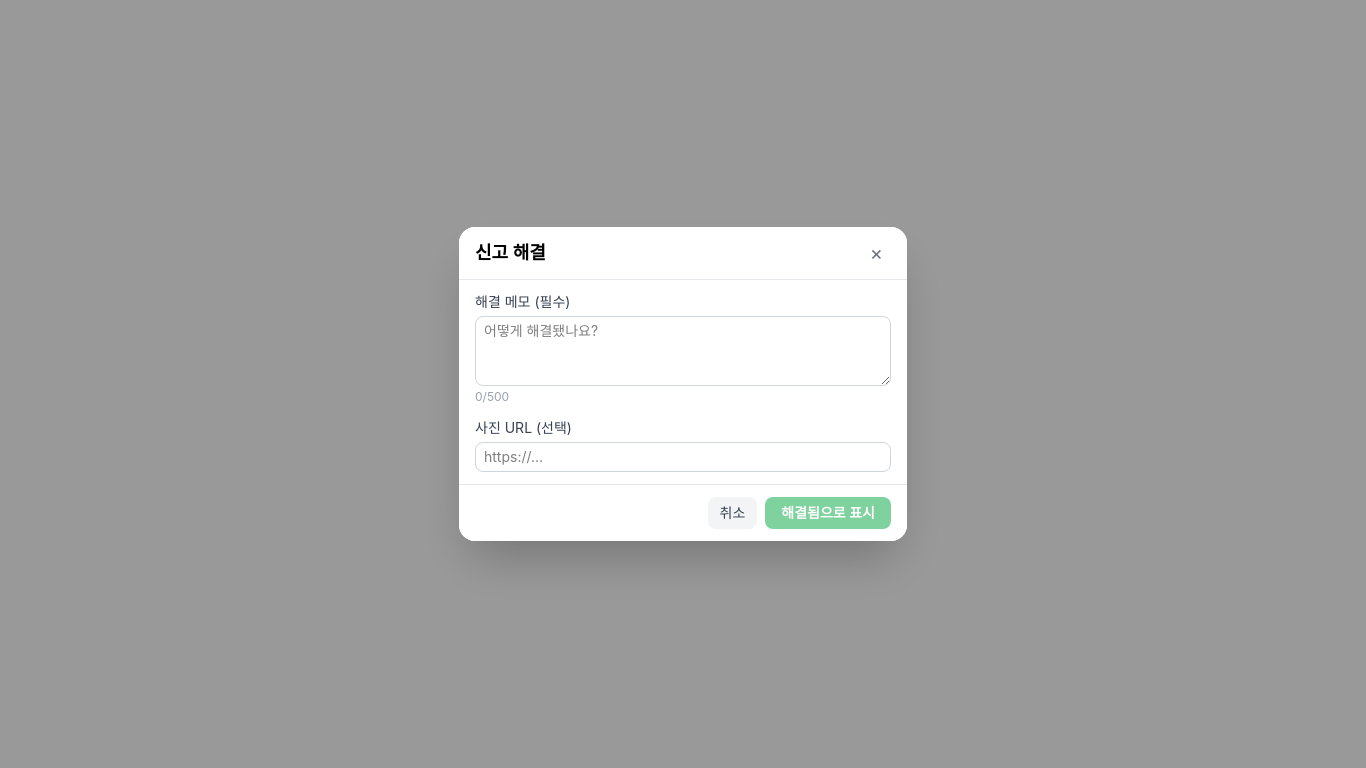
it: ReportResolveModal › submit disabled until note typed
Check: the button with test id "resolve-submit-button" is disabled, box top-left (765, 497), bottom-right (891, 529)
In the text box with test id "resolve-note": (683, 351) top-left (475, 316), bottom-right (891, 386), type "치웠음"
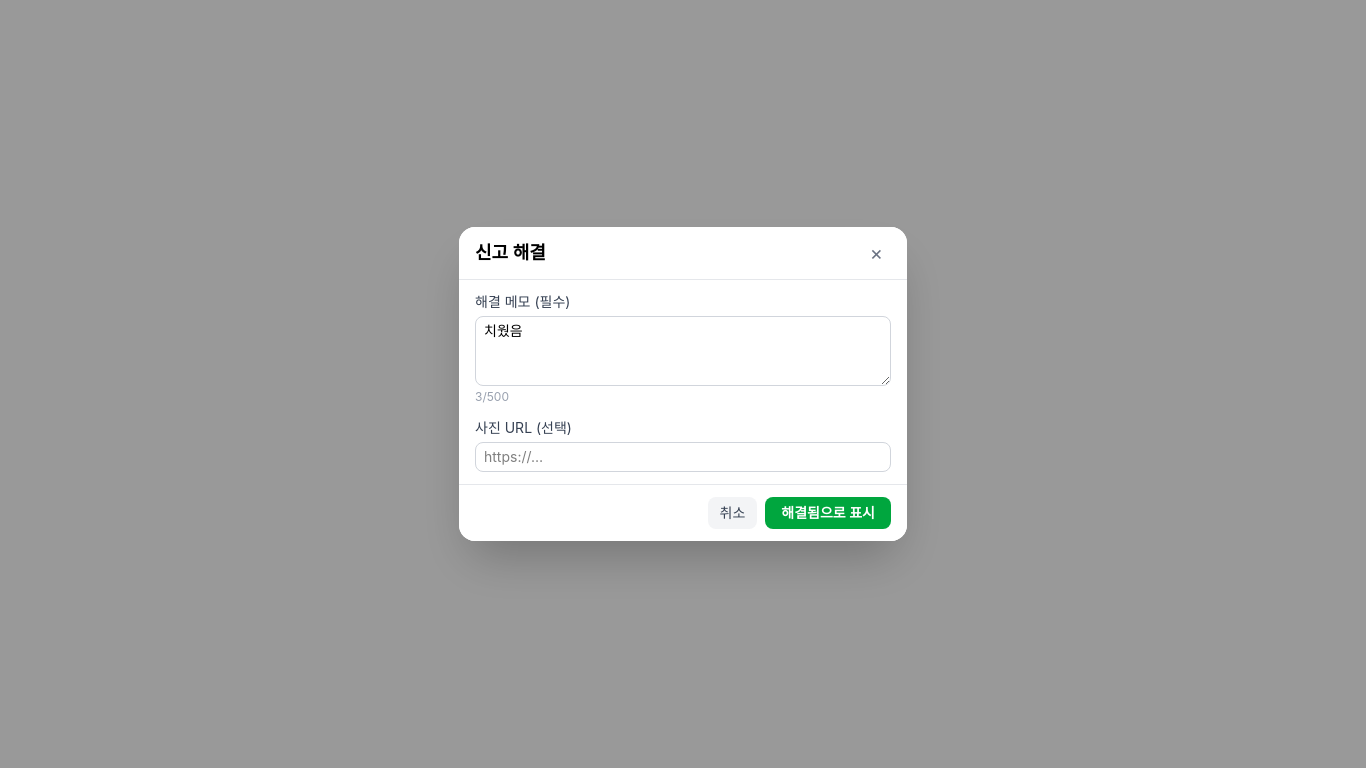
Check: the button with test id "resolve-submit-button" is enabled, box top-left (765, 497), bottom-right (891, 529)
